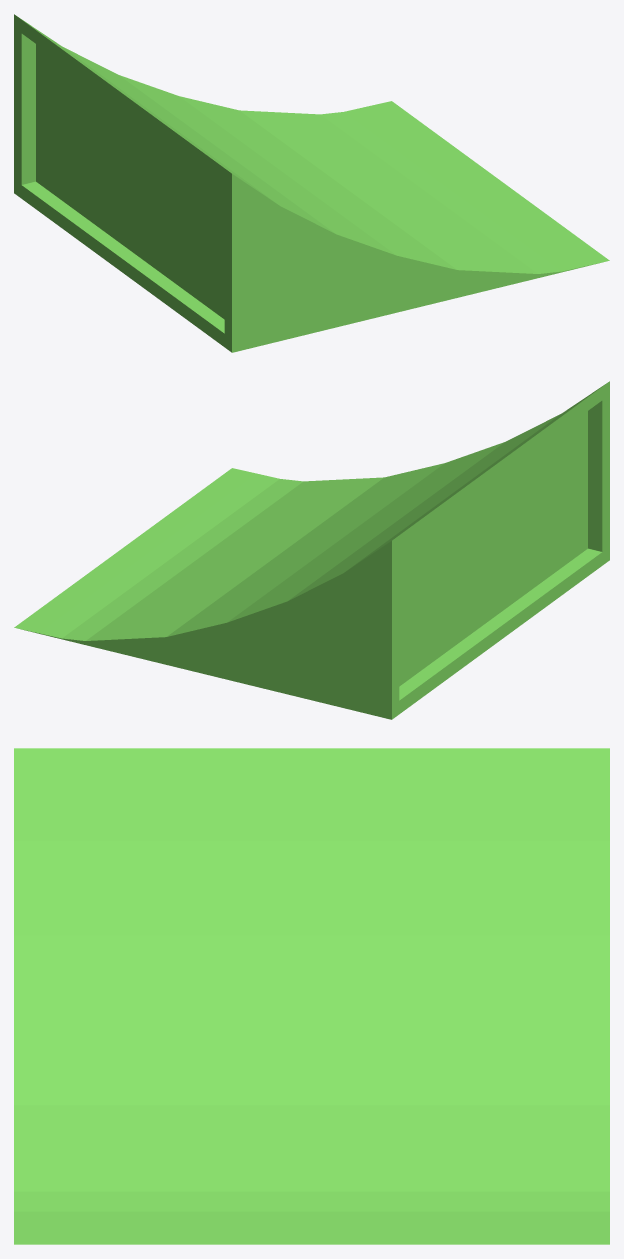
The model's file is ramp_1.dae.
3 views of the same model, one above another, from view 1: azimuth 30°, elevation 25°; view 2: azimuth 150°, elevation 25°; view 3: azimuth 270°, elevation 25° (orthographic). The views are drawn at different scales.
Visible parts, largest first — view 1: Cube; view 2: Cube; view 3: Cube.
Boxes of the visible parts, <box> form: Cube: <box>14,14,609,352</box>; Cube: <box>14,381,609,719</box>; Cube: <box>14,748,609,1244</box>.
Size of what is drawn, in the model's own units: 4.83 by 4.83 by 2.19.
